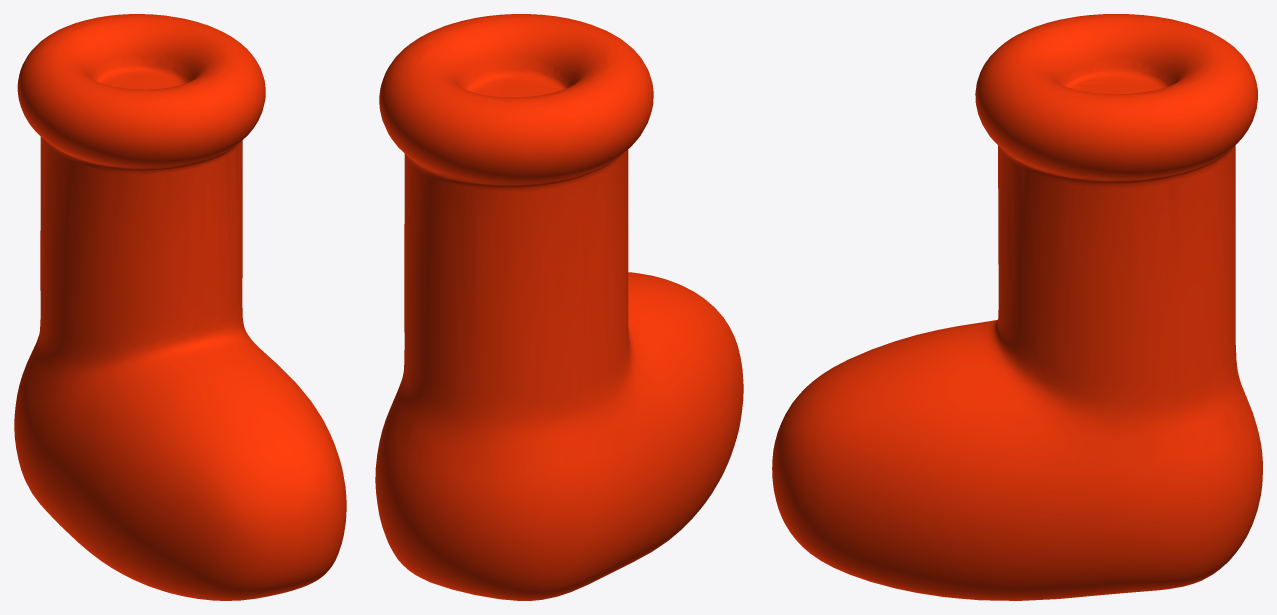
File: boot.glb
3 views of the same model, side by side, from view 1: azimuth 30°, elevation 25°; view 2: azimuth 150°, elevation 25°; view 3: azimuth 270°, elevation 25° (orthographic). The views are drawn at different scales.
Visible parts, largest first — view 1: boot; view 2: boot; view 3: boot.
Part boxes in pixels (x1=…): boot: x1=14, y1=14, x2=346, y2=600; boot: x1=375, y1=14, x2=743, y2=600; boot: x1=772, y1=14, x2=1262, y2=600.
Size of the model in its own units: 2.54 by 4.94 by 4.36.
